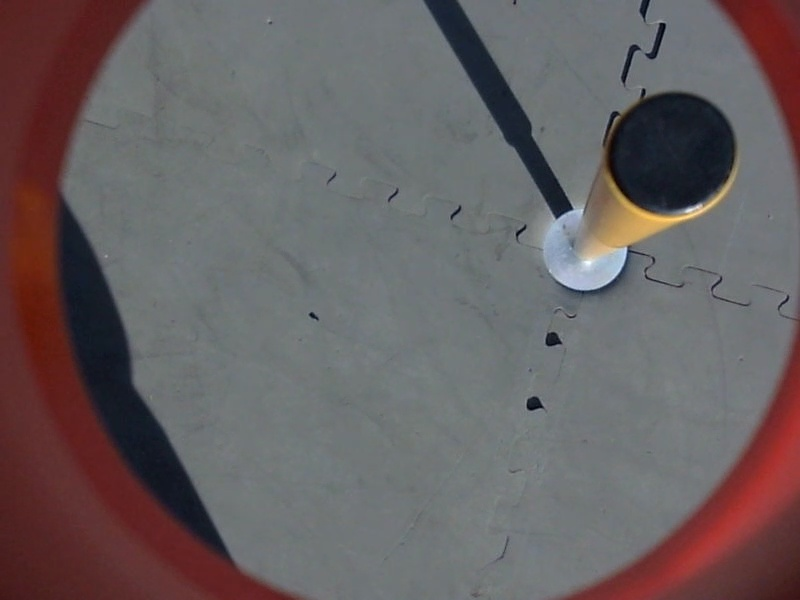tip: (599, 89, 747, 232)
